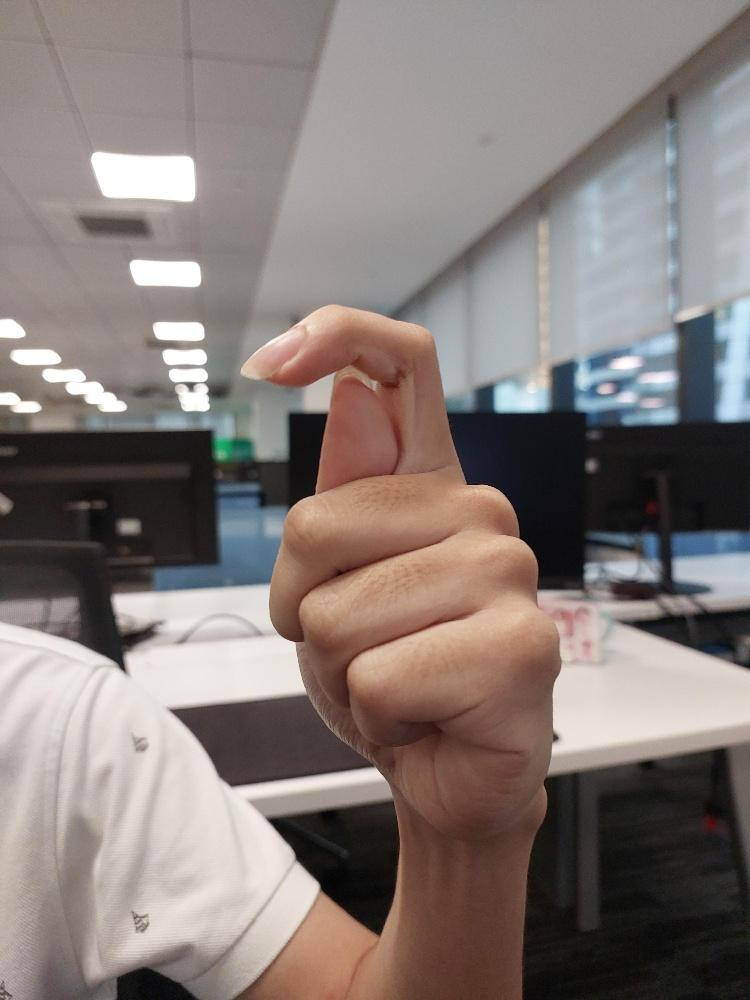t: (236, 299, 566, 849)
